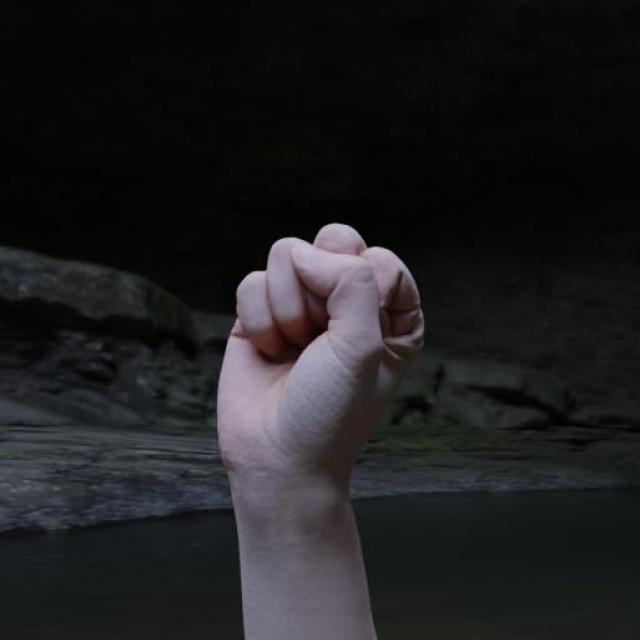S: (211, 219, 433, 491)
